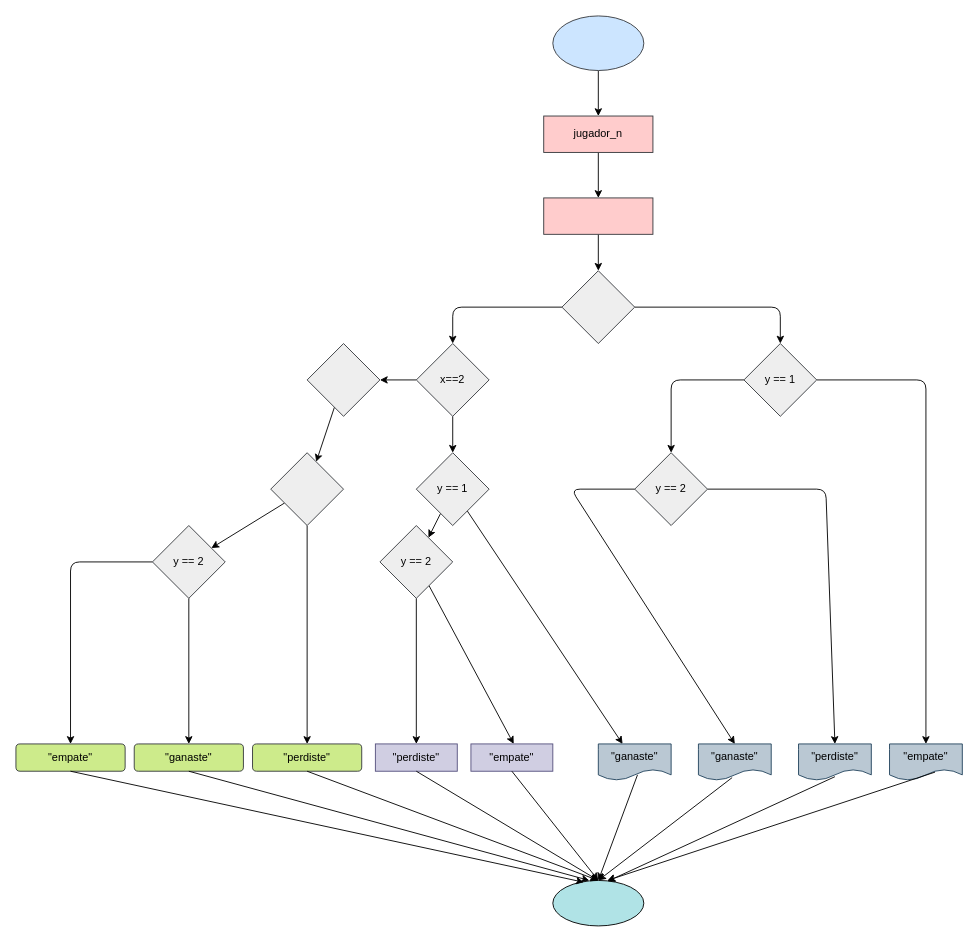
This 978x942 diagram has some shape labels left out. Here are the shapes that lost their labels. From the top down, the box of each, then its label:
(552, 15, 644, 71): INICIO
(543, 197, 653, 234): maquina_n
(561, 270, 635, 344): x==1
(306, 343, 380, 416): x==3
(270, 452, 344, 526): y==1
(552, 880, 644, 926): FIN
